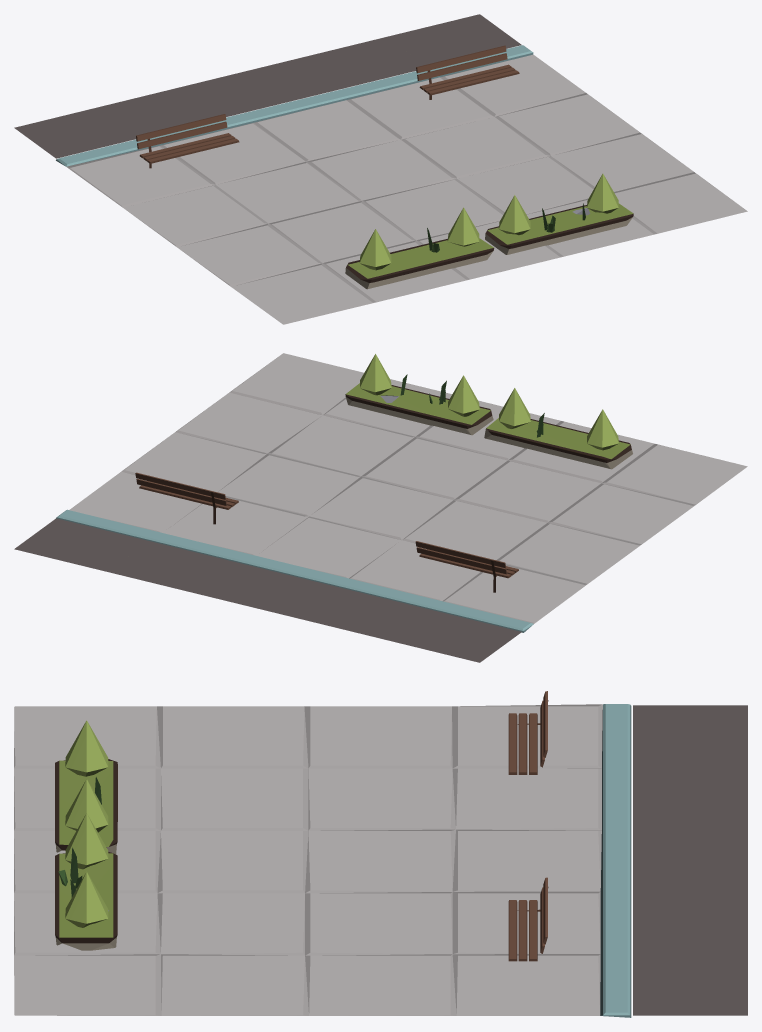
Rendered from QmeQesCV89NqjwiCTFL1un4pY7F7Hvee5vaJBbVd5JfuNt_lod2.fbx.
3 renders of one model, top to bottom at view 1: azimuth 30°, elevation 25°; view 2: azimuth 150°, elevation 25°; view 3: azimuth 270°, elevation 25°, orthographic. The views are drawn at different scales.
Parts seen in each view (by area): view 1: Entity_512; view 2: Entity_512; view 3: Entity_512.
Boxes of the visible parts, x1=… form: Entity_512: x1=14, y1=14, x2=747, y2=324; Entity_512: x1=14, y1=353, x2=747, y2=662; Entity_512: x1=14, y1=691, x2=747, y2=1017.
Bounding box in the file's own units: 16000 × 1591 × 15918.
1 material, 1 textured.
